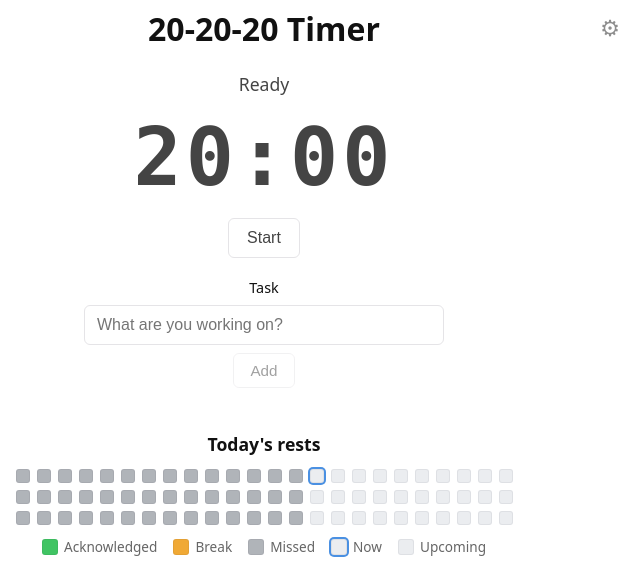
20-20-20 Timer › starts the work countdown without requiring a task
Click the button "Start": (264,238) left=228, top=218, right=300, bottom=258
Wait 1000 ms
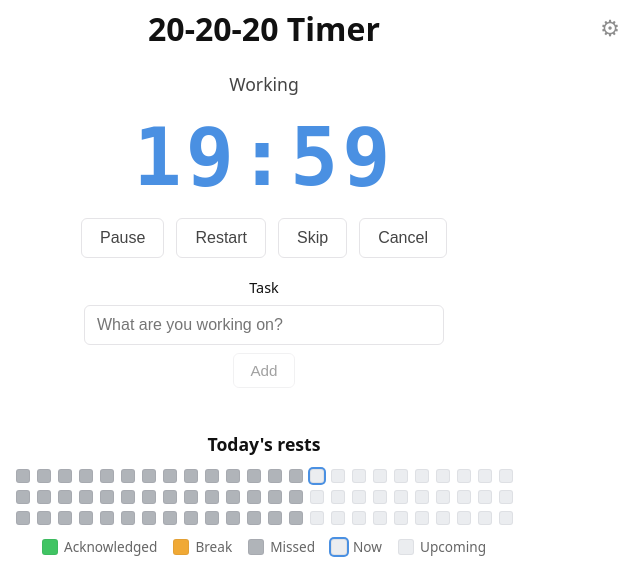
Expected: the text "Working" is shown, left=229, top=72, right=299, bottom=98
Expected: the text named "time remaining" reads "19:59", left=134, top=111, right=394, bottom=204
